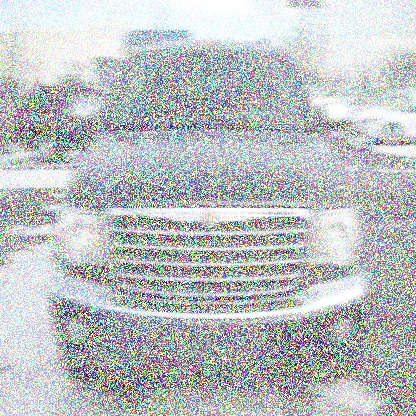Vehicle: (47, 41, 372, 392)
